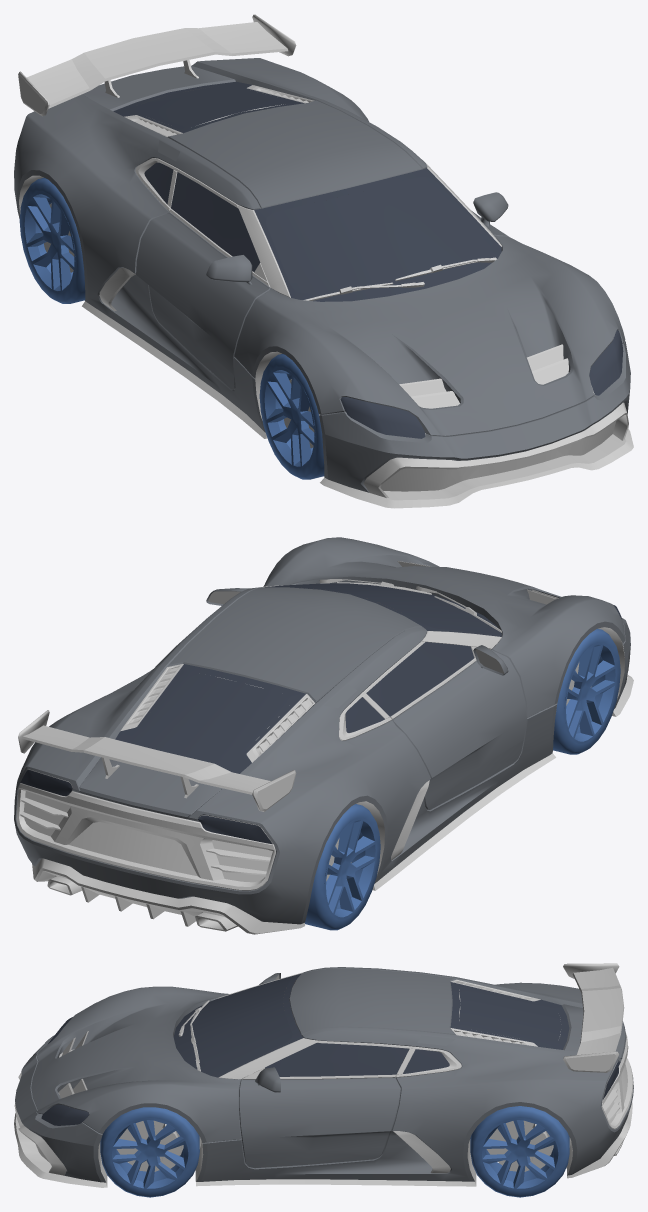
File: RealisticCar06_HD_LOD2.FBX
3 renders of one model, top to bottom at view 1: azimuth 30°, elevation 25°; view 2: azimuth 150°, elevation 25°; view 3: azimuth 270°, elevation 25°, orthographic. The views are drawn at different scales.
Parts seen in each view (by area): view 1: Car06_Body_LOD2, Car06_Glass_LOD2, Car06_Door_Right_LOD2, Car06_Wheel_Rear_Right_LOD2, Car06_Wheel_Front_Right_LOD2, Car06_Door_Left_LOD2; view 2: Car06_Body_LOD2, Car06_Glass_LOD2, Car06_Door_Right_LOD2, Car06_Wheel_Rear_Right_LOD2, Car06_Wheel_Front_Right_LOD2; view 3: Car06_Body_LOD2, Car06_Door_Left_LOD2, Car06_Glass_LOD2, Car06_Wheel_Rear_Left_LOD2, Car06_Wheel_Front_Left_LOD2, Car06_BrakeDisc_FrontLeft_LOD2, Car06_BrakeDisc_RearLeft_LOD2.
Part boxes in pixels (bbox=[...]): Car06_Body_LOD2: bbox=[14, 14, 633, 508]; Car06_Glass_LOD2: bbox=[113, 81, 623, 438]; Car06_Door_Right_LOD2: bbox=[136, 172, 270, 390]; Car06_Wheel_Rear_Right_LOD2: bbox=[19, 177, 85, 303]; Car06_Wheel_Front_Right_LOD2: bbox=[259, 354, 324, 479]; Car06_Door_Left_LOD2: bbox=[471, 192, 508, 236]; Car06_Body_LOD2: bbox=[14, 537, 633, 934]; Car06_Glass_LOD2: bbox=[20, 583, 622, 844]; Car06_Door_Right_LOD2: bbox=[366, 642, 526, 809]; Car06_Wheel_Rear_Right_LOD2: bbox=[305, 804, 380, 930]; Car06_Wheel_Front_Right_LOD2: bbox=[553, 628, 620, 754]; Car06_Body_LOD2: bbox=[14, 963, 633, 1187]; Car06_Door_Left_LOD2: bbox=[239, 1043, 409, 1168]; Car06_Glass_LOD2: bbox=[41, 973, 620, 1125]; Car06_Wheel_Rear_Left_LOD2: bbox=[470, 1106, 569, 1197]; Car06_Wheel_Front_Left_LOD2: bbox=[100, 1107, 199, 1197]; Car06_BrakeDisc_FrontLeft_LOD2: bbox=[123, 1125, 163, 1171]; Car06_BrakeDisc_RearLeft_LOD2: bbox=[493, 1125, 533, 1171].
Size of the model in its own units: 2 by 4.59 by 1.23.
